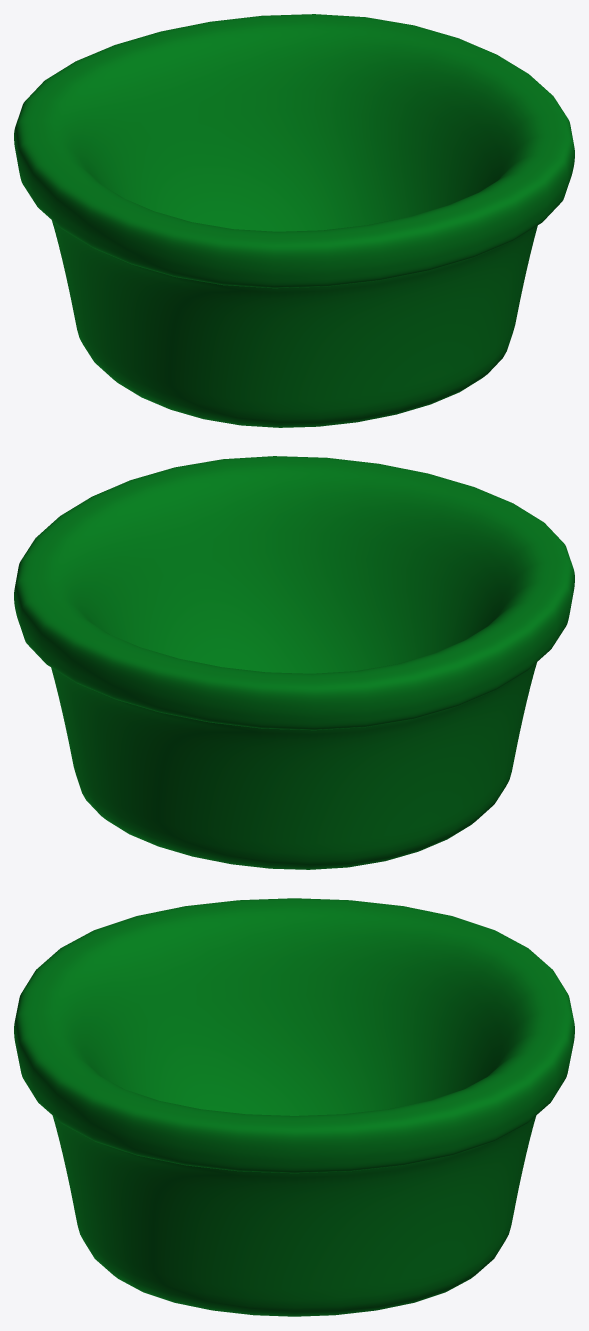
The model's file is тазобедренная кость.fbx.
3 views of the same model, one above another, from view 1: azimuth 30°, elevation 25°; view 2: azimuth 150°, elevation 25°; view 3: azimuth 270°, elevation 25° (orthographic). The views are drawn at different scales.
Visible parts, largest first — view 1: Cube.001; view 2: Cube.001; view 3: Cube.001.
Part boxes in pixels (<box>): Cube.001: <box>14,14,574,427</box>; Cube.001: <box>14,456,574,869</box>; Cube.001: <box>14,898,574,1316</box>.
Size of the model in its own units: 64.46 by 29.11 by 64.46.
